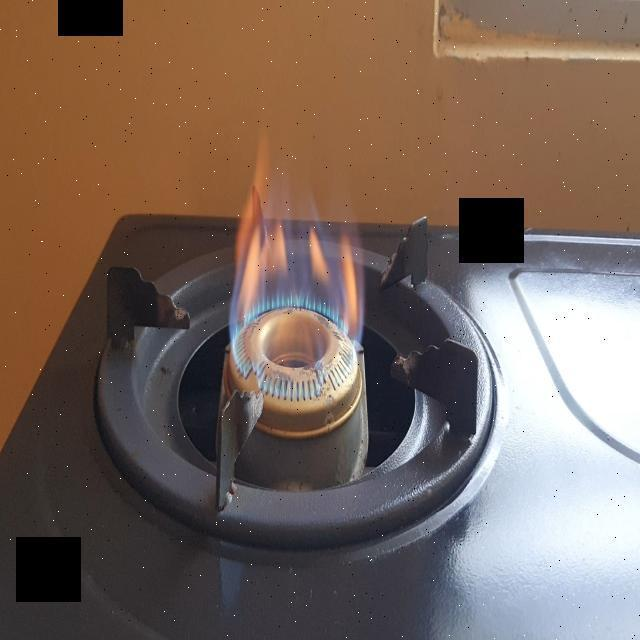Flame: (188, 140, 386, 429)
